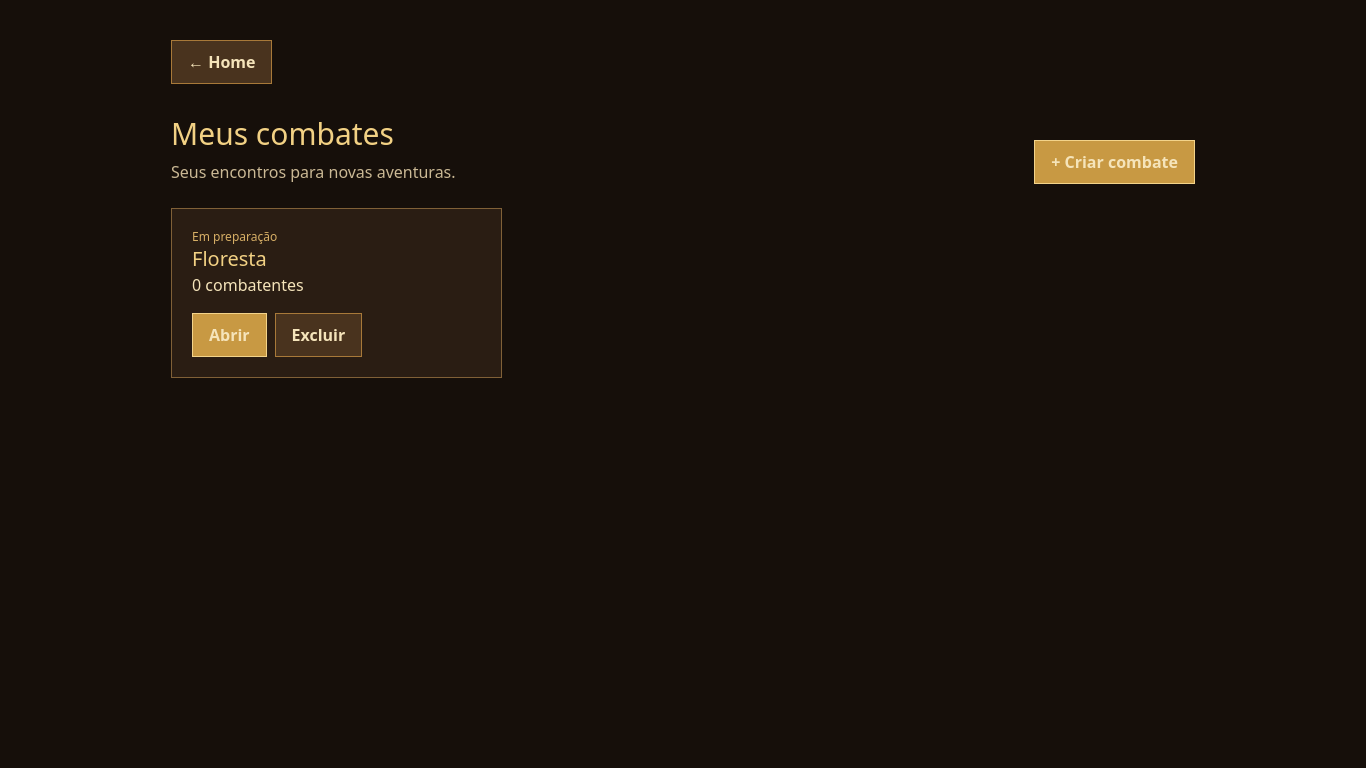
Test: stops saving on a conflict and offers to reload the saved state
Click the button "Abrir": (229, 335) [192, 313, 267, 357]
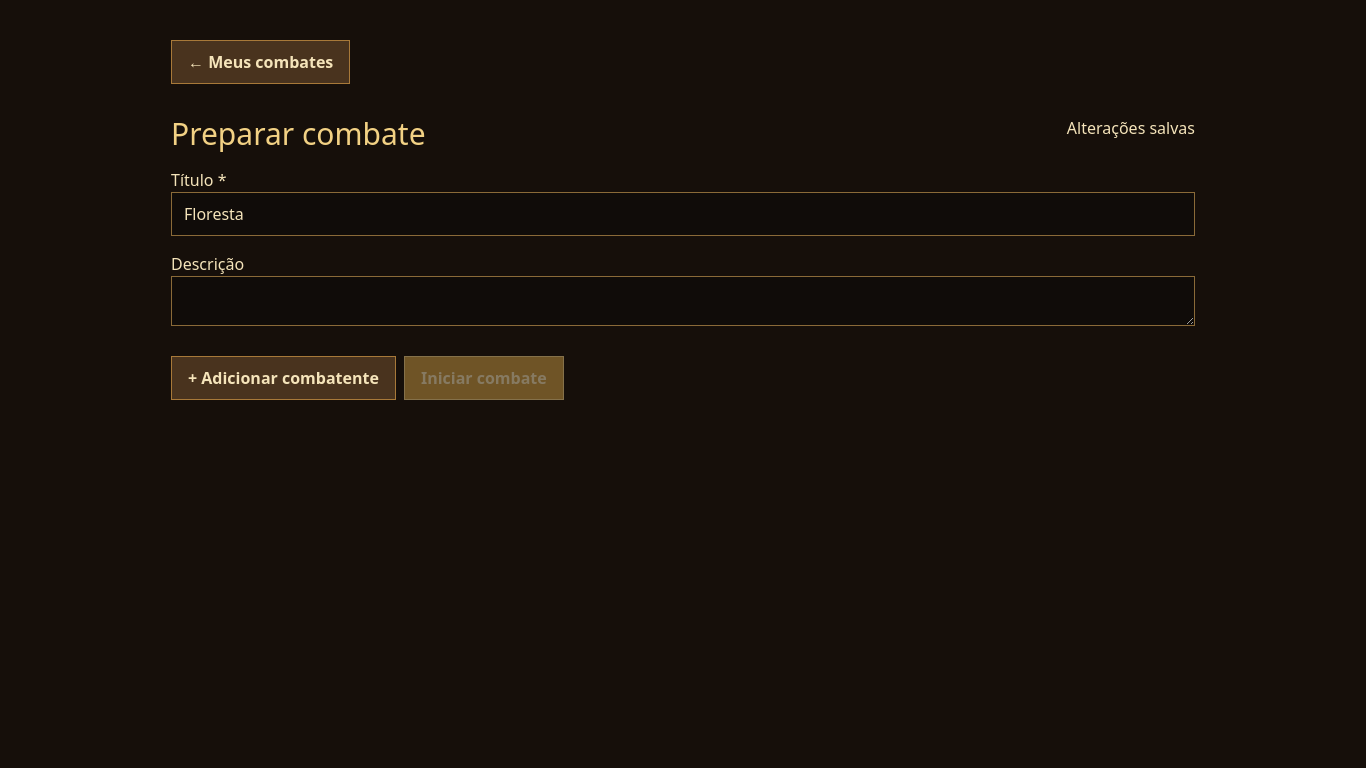
Click the button "+ Adicionar combatente": (283, 378) [171, 356, 396, 400]
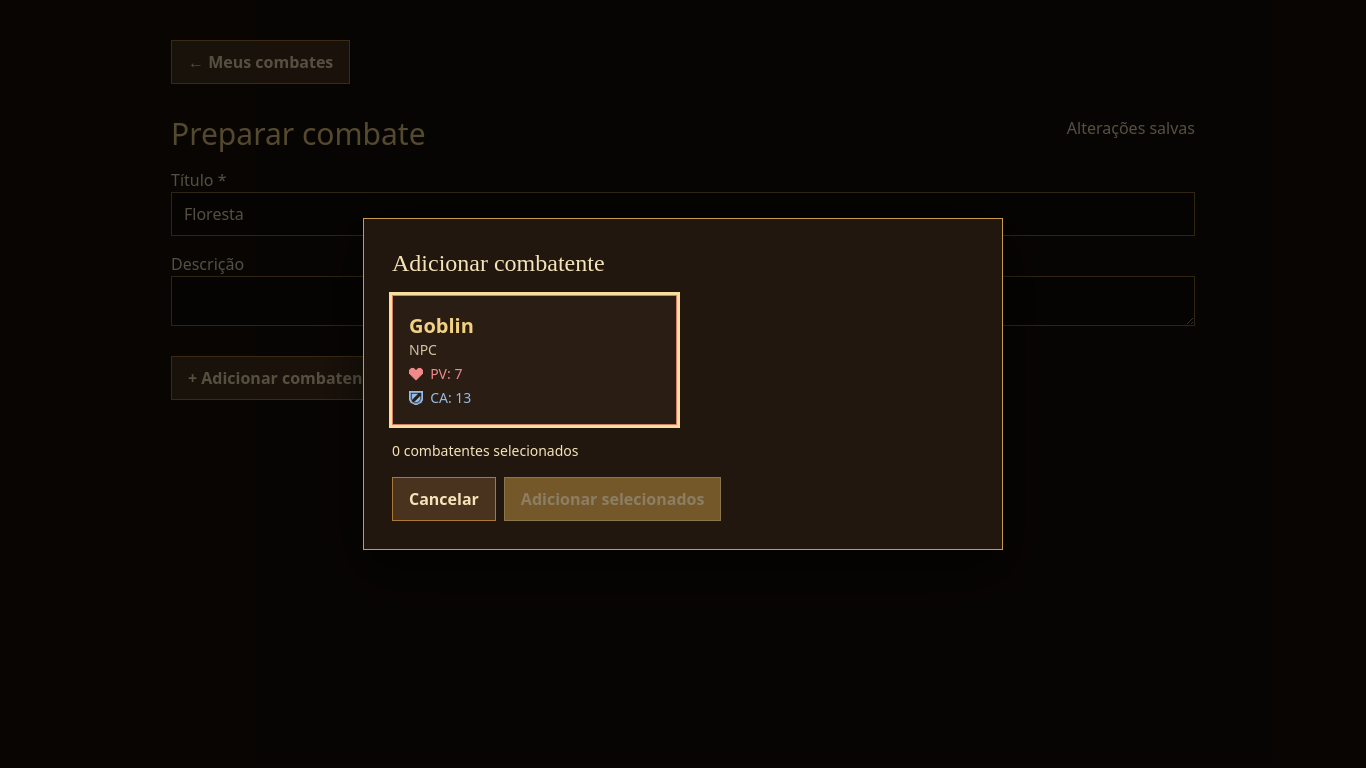
Click the button with aria-label "Goblin · PV 7": (441, 326) [392, 295, 677, 425]
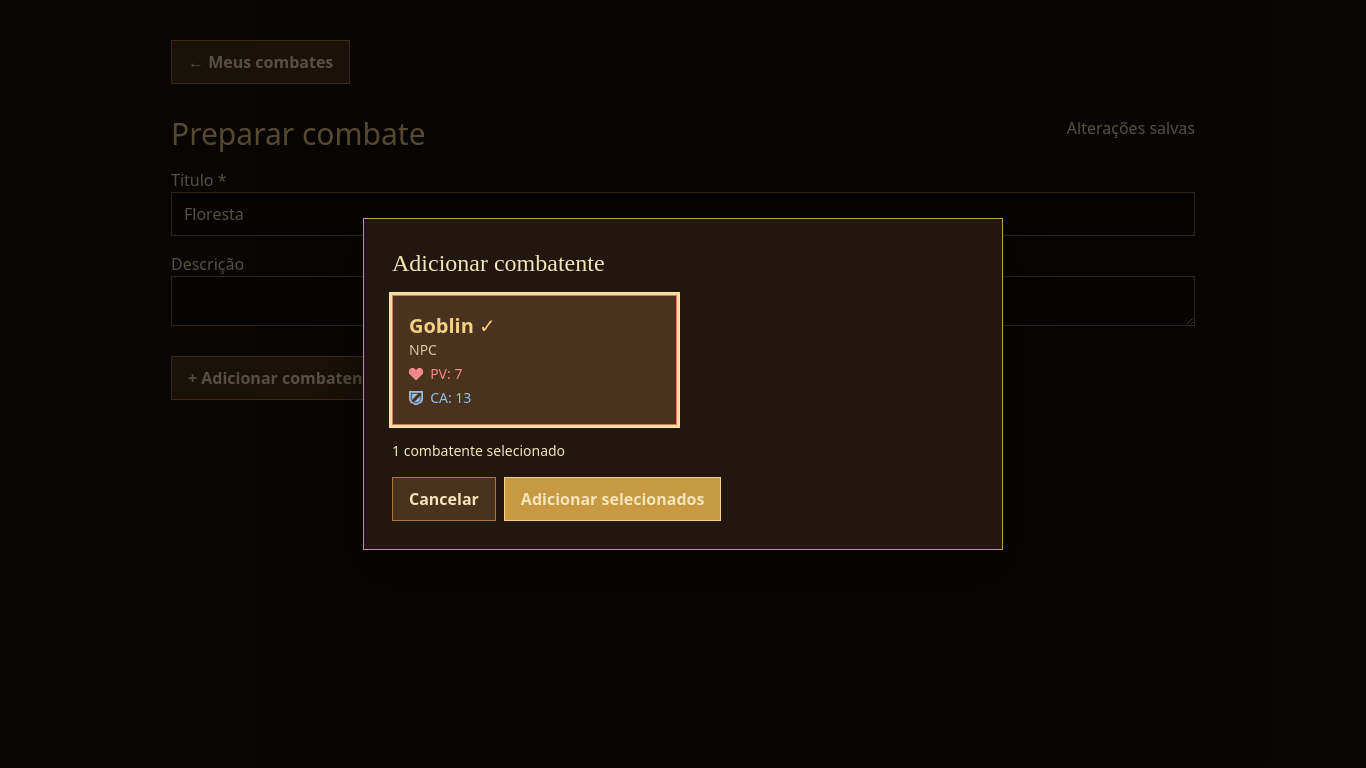
Click the button "Adicionar selecionados": (613, 499) [504, 477, 722, 521]
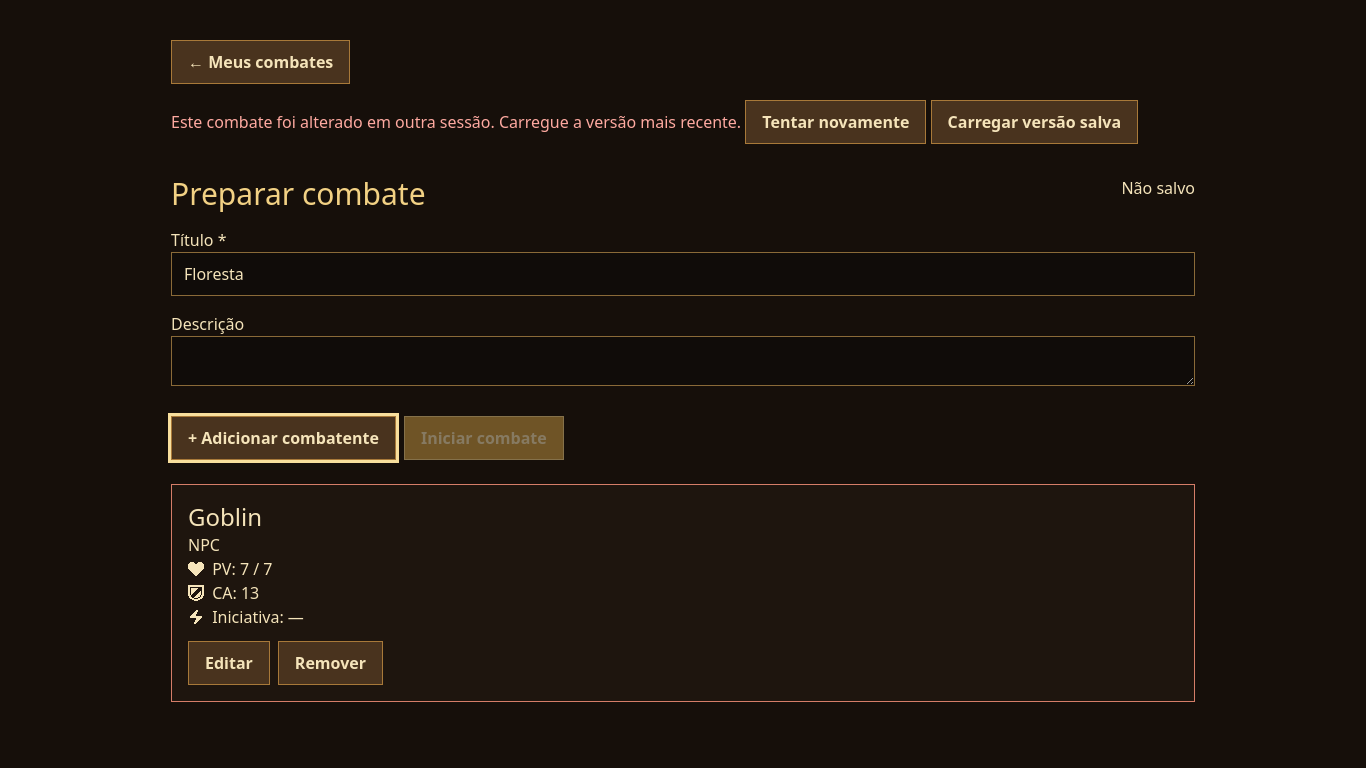
Expected: the 1st message shows "outra sessão", [171, 111, 741, 133]
Click the button "Carregar versão salva": (1034, 122) [931, 100, 1138, 144]
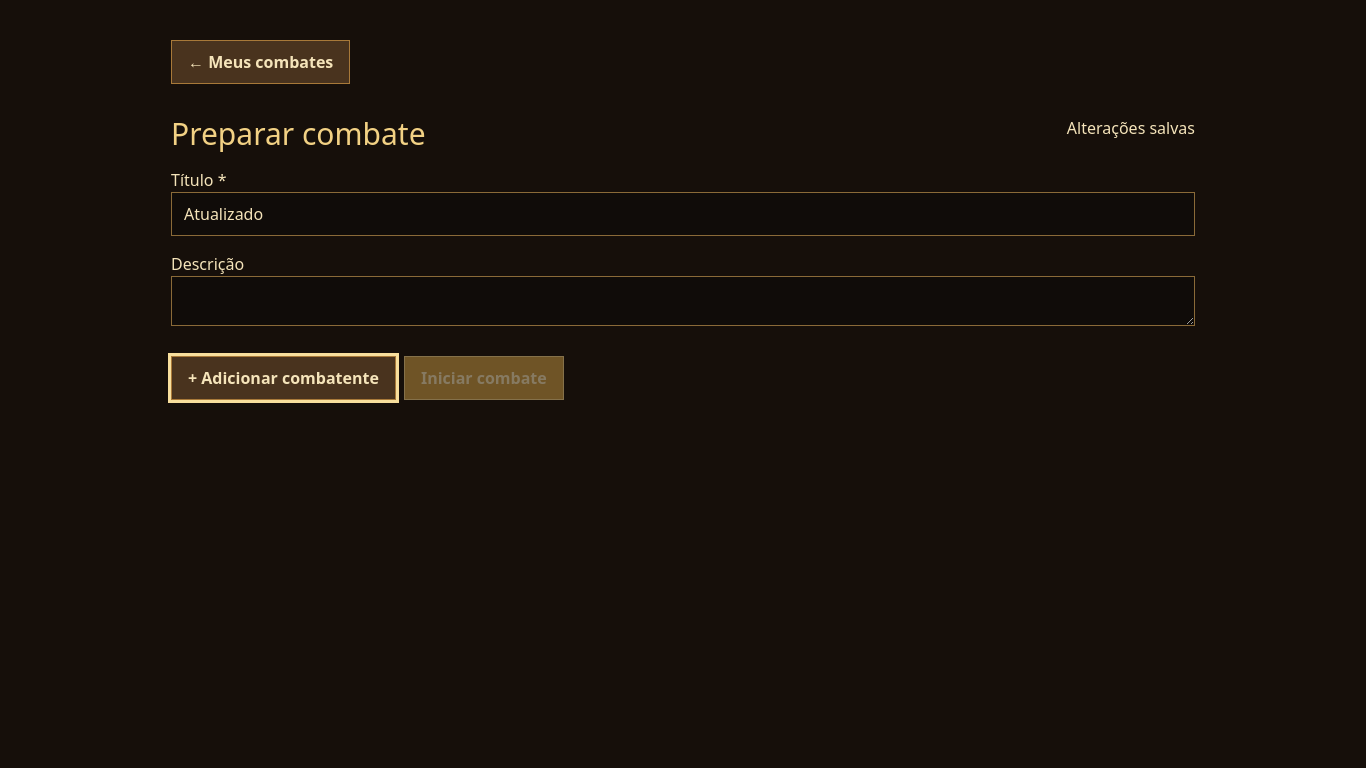
Expected: the field labelled "Título *" holds "Atualizado", [171, 192, 1195, 236]
